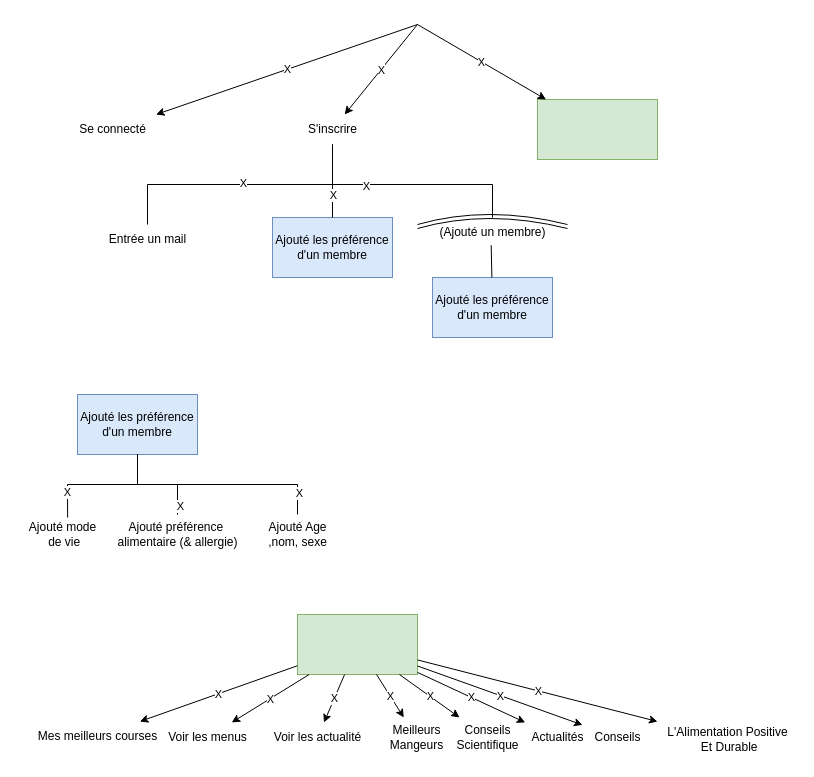
Image size: 814x777. Some labels were removed from this diagram. The shapes that lost their labels are listed below. From the top down, each one's centre as x and y in pixels, then its label:
point 597,129: Visité le teste du site
point 357,644: Visité le reste du site
